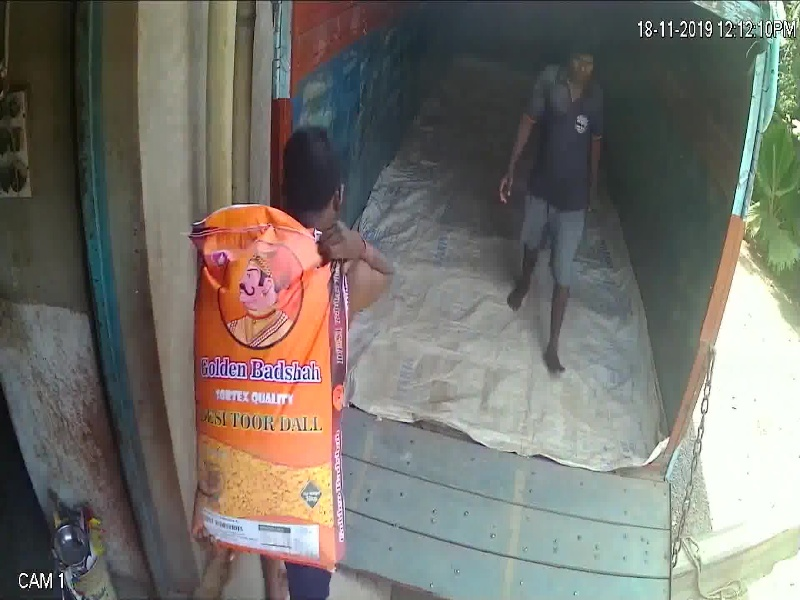Bag: (192, 214, 349, 568)
